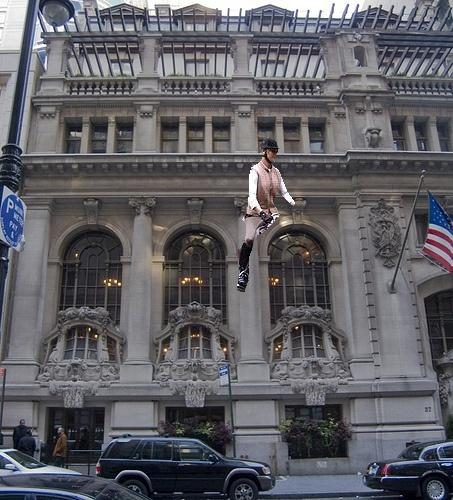tampered: (238, 138, 295, 292)
